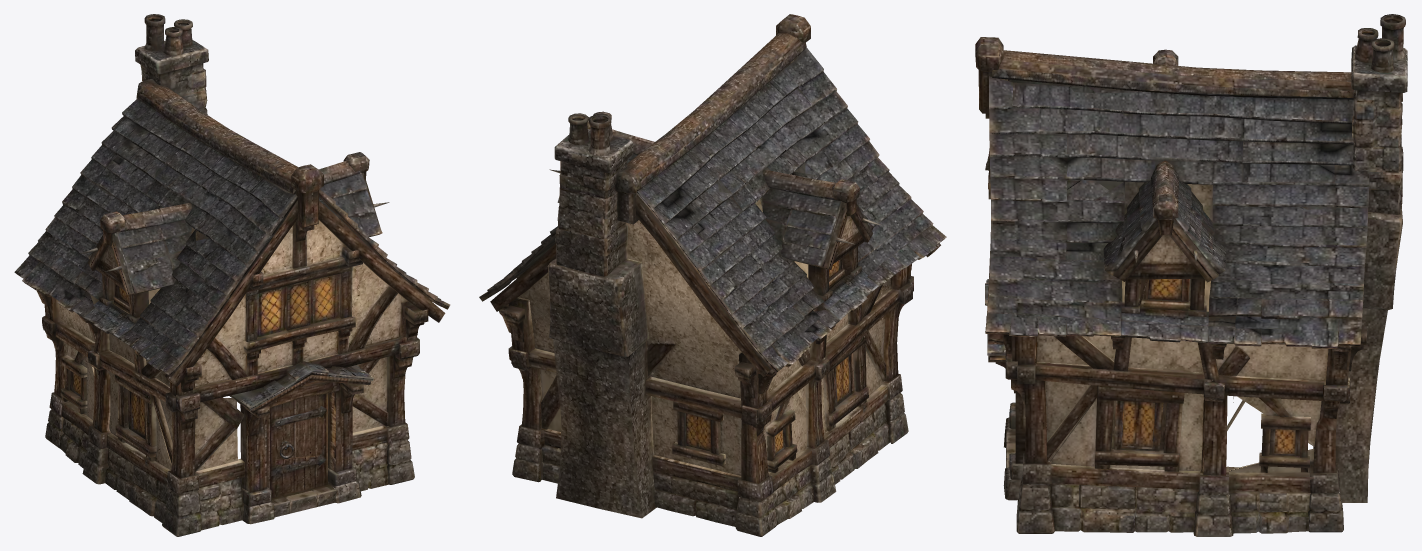
File: house_cottage_a.glb
The picture shows the model from 3 angles, left to right: view 1: azimuth 30°, elevation 25°; view 2: azimuth 150°, elevation 25°; view 3: azimuth 270°, elevation 25°; orthographic projection. The views are drawn at different scales.
Visible parts, largest first — view 1: tripo_node_af2393ca-347f-4934-8b6f-0aedbae8497b; view 2: tripo_node_af2393ca-347f-4934-8b6f-0aedbae8497b; view 3: tripo_node_af2393ca-347f-4934-8b6f-0aedbae8497b.
Part boxes in pixels (box(x1,y1,x2,y2)): tripo_node_af2393ca-347f-4934-8b6f-0aedbae8497b: box(14, 14, 450, 536); tripo_node_af2393ca-347f-4934-8b6f-0aedbae8497b: box(479, 14, 946, 536); tripo_node_af2393ca-347f-4934-8b6f-0aedbae8497b: box(975, 14, 1407, 536).
Bounding box in the file's own units: 0.8042 × 0.9995 × 0.8648.
Materials: 1 (1 with a texture image).
